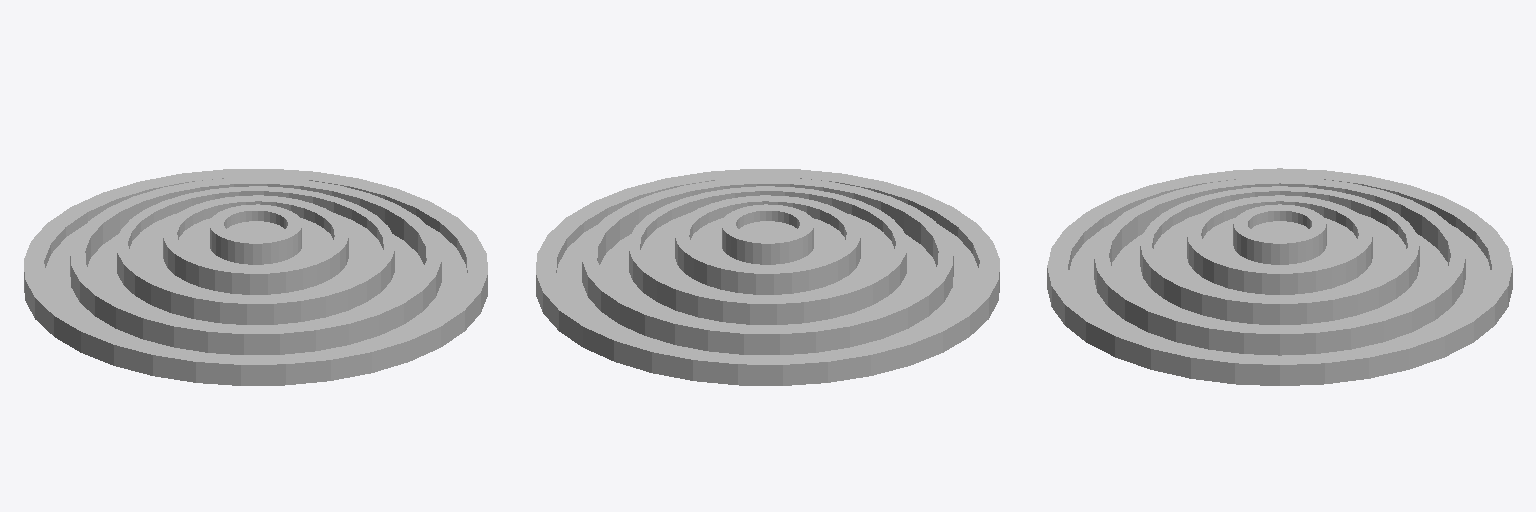
File: Fountain.obj
The picture shows the model from 3 angles: view 1: azimuth 30°, elevation 25°; view 2: azimuth 150°, elevation 25°; view 3: azimuth 270°, elevation 25°; orthographic projection.
Parts seen in each view (by area): view 1: Cylinder.004; view 2: Cylinder.004; view 3: Cylinder.004.
Boxes of the visible parts, x1=… form: Cylinder.004: x1=24, y1=169, x2=487, y2=385; Cylinder.004: x1=536, y1=169, x2=999, y2=385; Cylinder.004: x1=1047, y1=168, x2=1512, y2=385.
Bounding box in the file's own units: 4 × 0.6046 × 4.